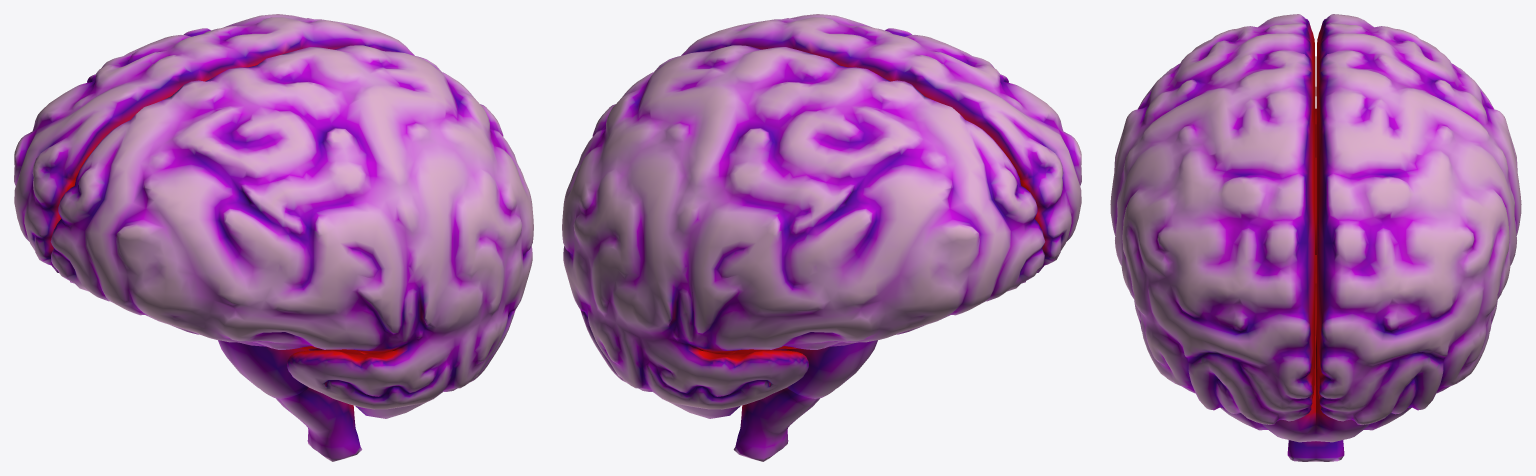
File: brain_lo_purp.glb
3 renders of one model, left to right at view 1: azimuth 30°, elevation 25°; view 2: azimuth 150°, elevation 25°; view 3: azimuth 270°, elevation 25°, orthographic. The views are drawn at different scales.
Parts seen in each view (by area): view 1: geo2; view 2: geo2; view 3: geo2.
Boxes of the visible parts, x1,y1,x2,y2 form: geo2: [14, 14, 533, 461]; geo2: [562, 14, 1081, 461]; geo2: [1110, 14, 1521, 461].
Bounding box in the file's own units: 0.159 × 0.1397 × 0.1384.
